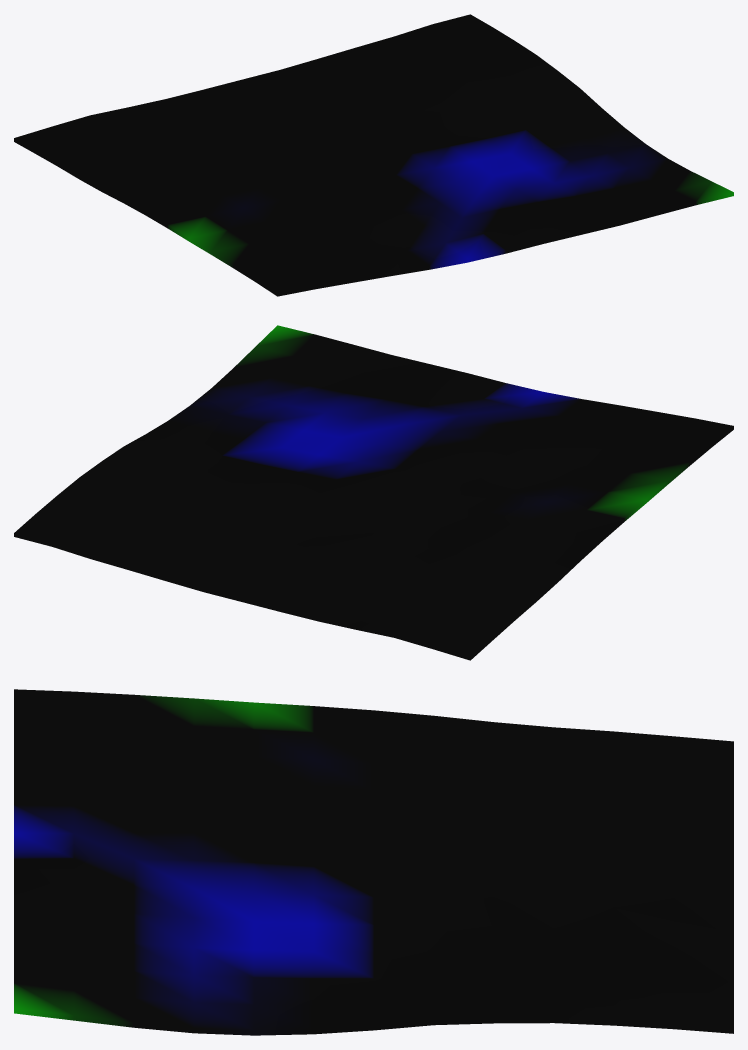
File: coast_8_1.glb
3 renders of one model, top to bottom at view 1: azimuth 30°, elevation 25°; view 2: azimuth 150°, elevation 25°; view 3: azimuth 270°, elevation 25°, orthographic. The views are drawn at different scales.
Parts seen in each view (by area): view 1: terrain; view 2: terrain; view 3: terrain.
Part boxes in pixels (box(x1,y1,x2,y2)): terrain: box(14, 14, 733, 296); terrain: box(14, 325, 733, 660); terrain: box(14, 689, 733, 1035).
Size of the model in its own units: 192 by 16.83 by 192.
